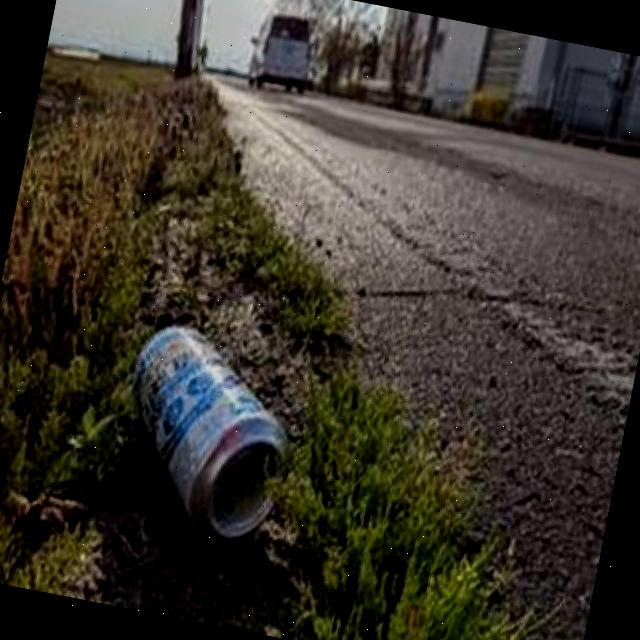trash: (97, 316, 316, 568)
